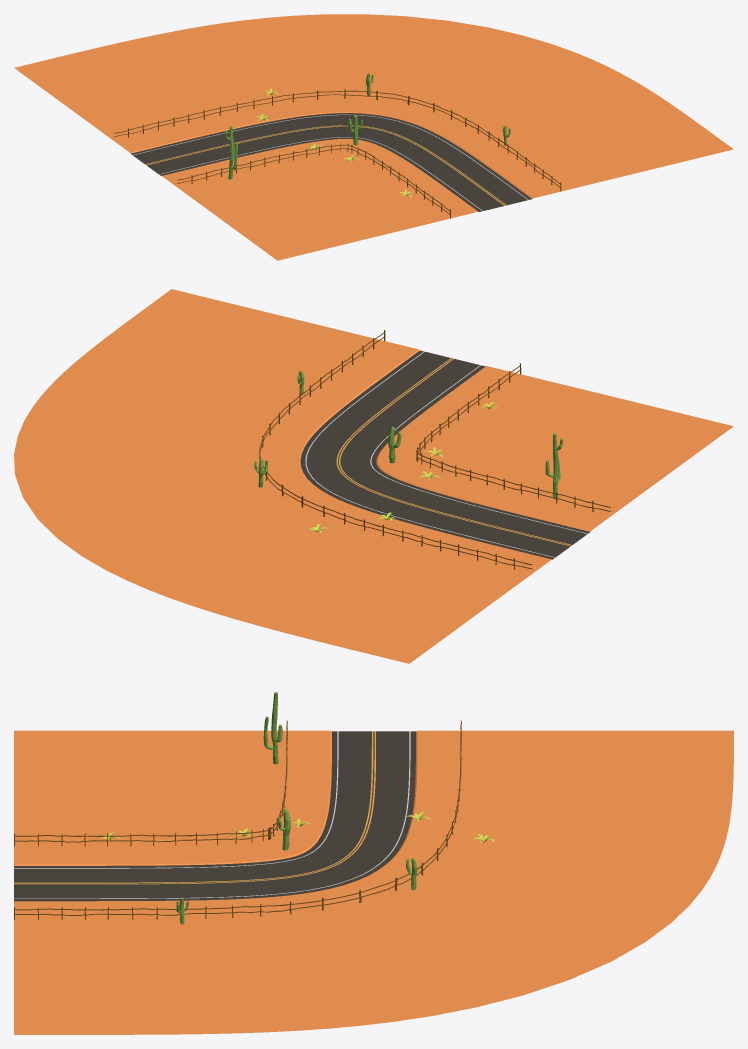
The model's file is DesertRoadRight.fbx.
3 renders of one model, top to bottom at view 1: azimuth 30°, elevation 25°; view 2: azimuth 150°, elevation 25°; view 3: azimuth 270°, elevation 25°, orthographic. The views are drawn at different scales.
Visible parts, largest first — view 1: DRRRoad, DRRWoodFenceLeft, DRRWoodFenceRight; view 2: DRRRoad, DRRWoodFenceLeft, DRRWoodFenceRight; view 3: DRRRoad, DRRWoodFenceLeft, DRRWoodFenceRight, Cactus2.007.
Part boxes in pixels (bbox=[...]): DRRRoad: bbox=[14, 14, 733, 260]; DRRWoodFenceLeft: bbox=[114, 89, 561, 191]; DRRWoodFenceRight: bbox=[177, 143, 450, 218]; DRRRoad: bbox=[14, 289, 733, 663]; DRRWoodFenceLeft: bbox=[259, 330, 532, 569]; DRRWoodFenceRight: bbox=[416, 363, 610, 512]; DRRRoad: bbox=[14, 730, 733, 1034]; DRRWoodFenceLeft: bbox=[14, 720, 461, 919]; DRRWoodFenceRight: bbox=[14, 720, 287, 846]; Cactus2.007: bbox=[263, 692, 282, 764].
Size of what is drawn, in the model's own units: 12000 by 1349 by 12000.
